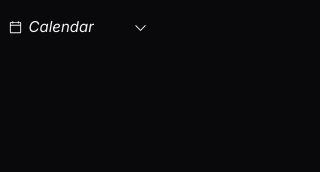
Test: TabStrip › a non-type tab keeps the plain menu
Right-click the tab "Calendar": {"x": 51, "y": 27} [8, 17, 94, 36]
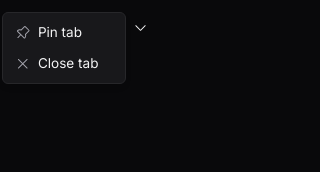
Now the menu items read "Pin tab", "Close tab", in this order, box [15, 24, 82, 40]; [15, 55, 98, 71]
